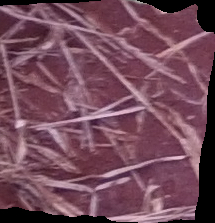soil: (1, 1, 215, 222)
